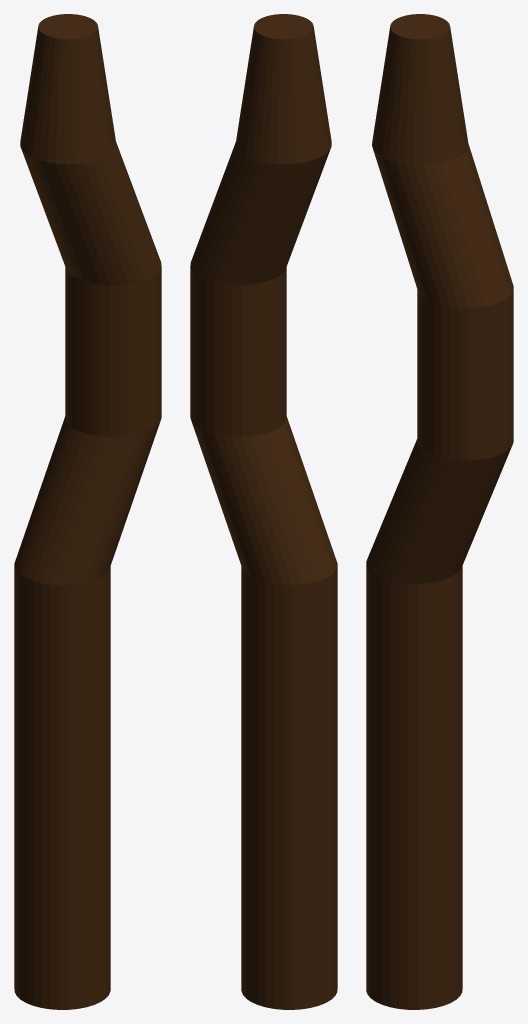
The model's file is Plant1.fbx.
3 views of the same model, side by side, from view 1: azimuth 30°, elevation 25°; view 2: azimuth 150°, elevation 25°; view 3: azimuth 330°, elevation 25° (orthographic).
Visible parts, largest first — view 1: Plant1; view 2: Plant1; view 3: Plant1.
Boxes of the visible parts, bbox=[...] form: Plant1: bbox=[14, 14, 161, 1009]; Plant1: bbox=[190, 14, 337, 1009]; Plant1: bbox=[366, 14, 513, 1009].
Size of the model in its own units: 6.85 by 46.85 by 4.25.
